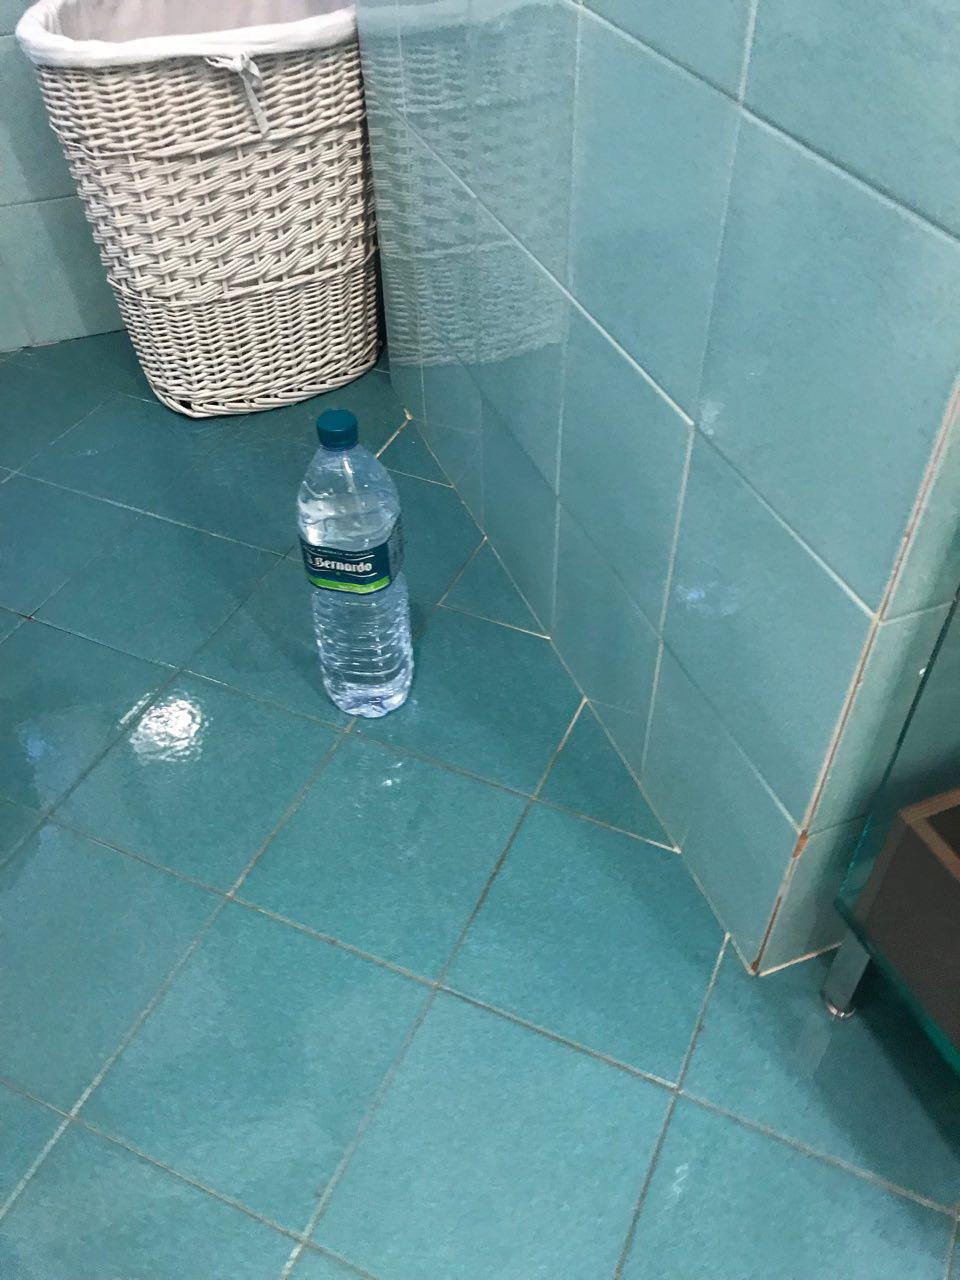san_bernardo: (296, 408, 415, 720)
